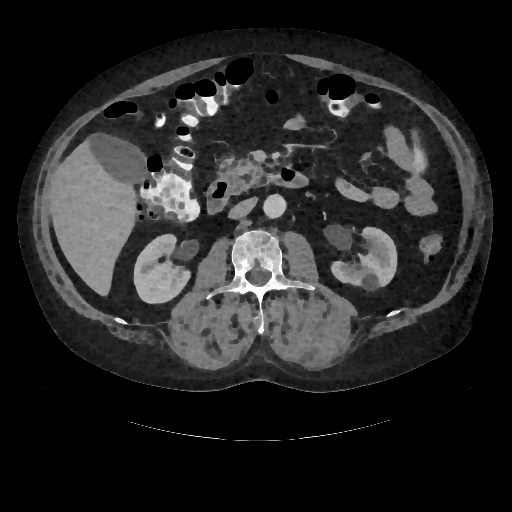Lesion: (360, 274, 381, 291)
